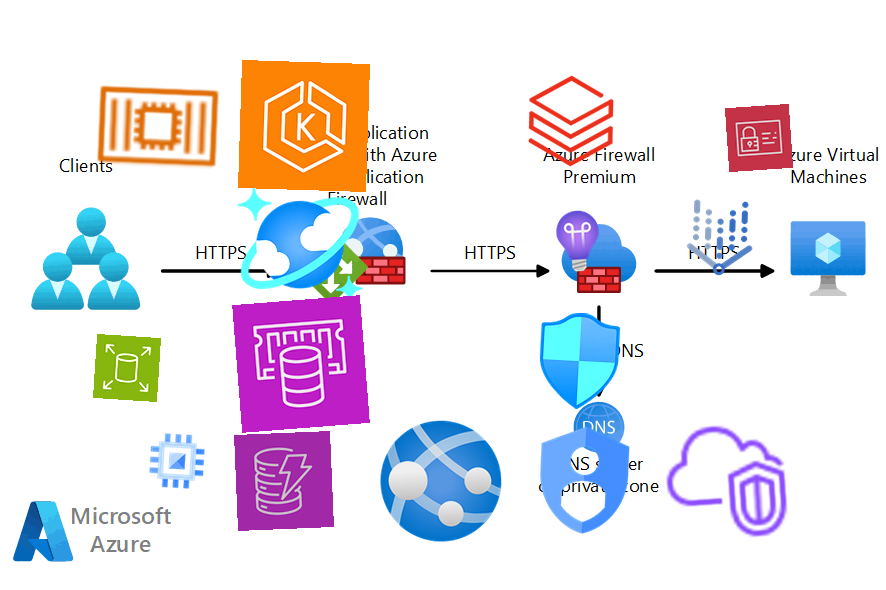aws_amazon_dynamodb: (234, 431, 334, 531)
aws_amazon_elastic_block_store: (92, 333, 162, 403)
aws_amazon_elastic_kubernetes_service: (237, 59, 371, 193)
aws_amazon_elasticache: (232, 295, 370, 433)
aws_elastic_container_service_container_2: (91, 59, 225, 193)
aws_identity_and_access_management: (724, 103, 794, 173)
aws_vpc_virtual_private_cloud_vpc: (657, 413, 795, 551)
azure_app_services: (373, 413, 509, 549)
azure_application_insights: (544, 207, 612, 275)
azure_cosmos_db: (232, 177, 368, 313)
azure_databricks: (522, 72, 620, 170)
azure_network_security_groups: (528, 310, 630, 412)
gcp_compute_engine: (143, 427, 211, 495)
gcp_identity_and_access_management: (517, 413, 651, 547)
gcp_vertex_ai: (670, 188, 770, 288)
